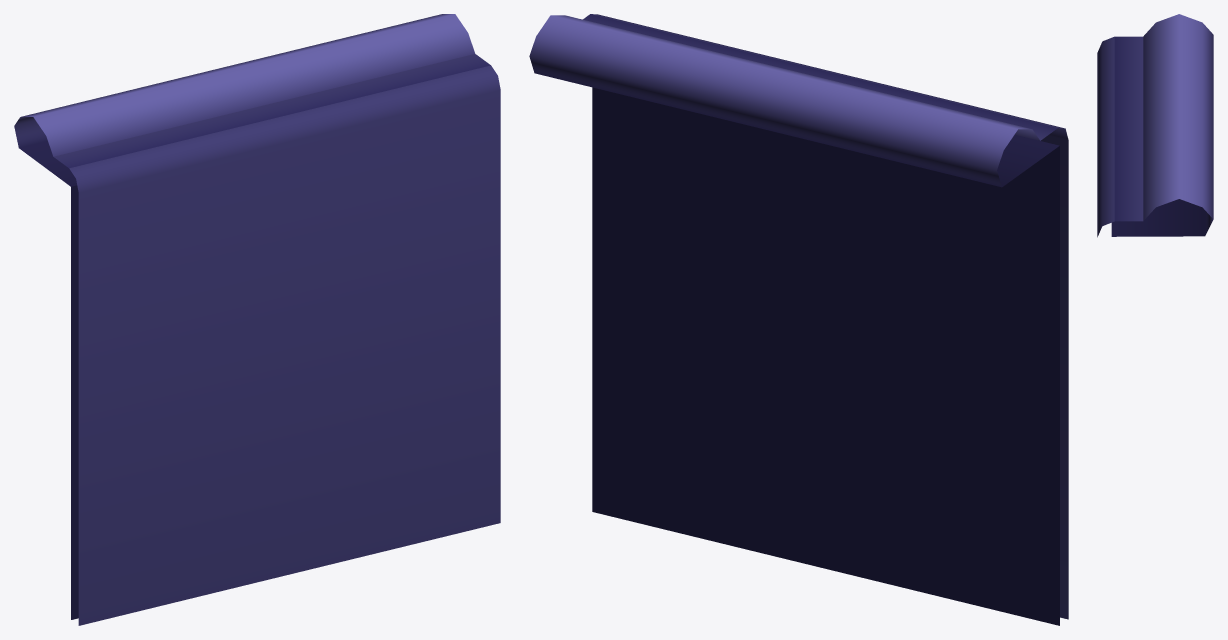
File: carpet_finish_middle.fbx
3 renders of one model, left to right at view 1: azimuth 30°, elevation 25°; view 2: azimuth 150°, elevation 25°; view 3: azimuth 270°, elevation 25°, orthographic. The views are drawn at different scales.
Visible parts, largest first — view 1: carpet_finish_middle; view 2: carpet_finish_middle; view 3: carpet_finish_middle.
Boxes of the visible parts, x1,y1,x2,y2 form: carpet_finish_middle: (14, 14, 500, 625); carpet_finish_middle: (529, 14, 1068, 625); carpet_finish_middle: (1097, 14, 1213, 237).
Size of the model in its own units: 2 by 2.15 by 0.5305.
